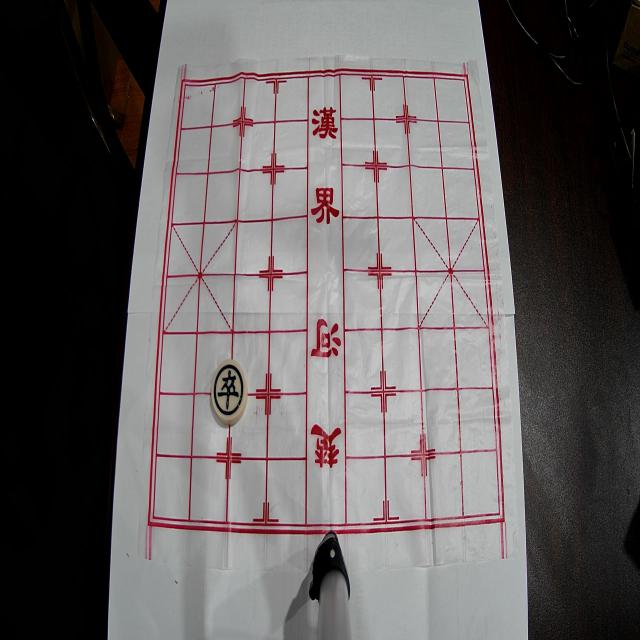black-soldier: (210, 359, 248, 425)
